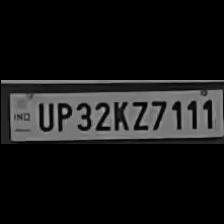1: (196, 96, 216, 130), (168, 97, 184, 130), (183, 98, 199, 130)
2: (91, 99, 111, 131)
3: (72, 99, 92, 131)
7: (148, 97, 166, 130)
K: (110, 99, 128, 131)
P: (52, 98, 72, 132)
U: (32, 99, 52, 131)
Z: (128, 97, 148, 130)
